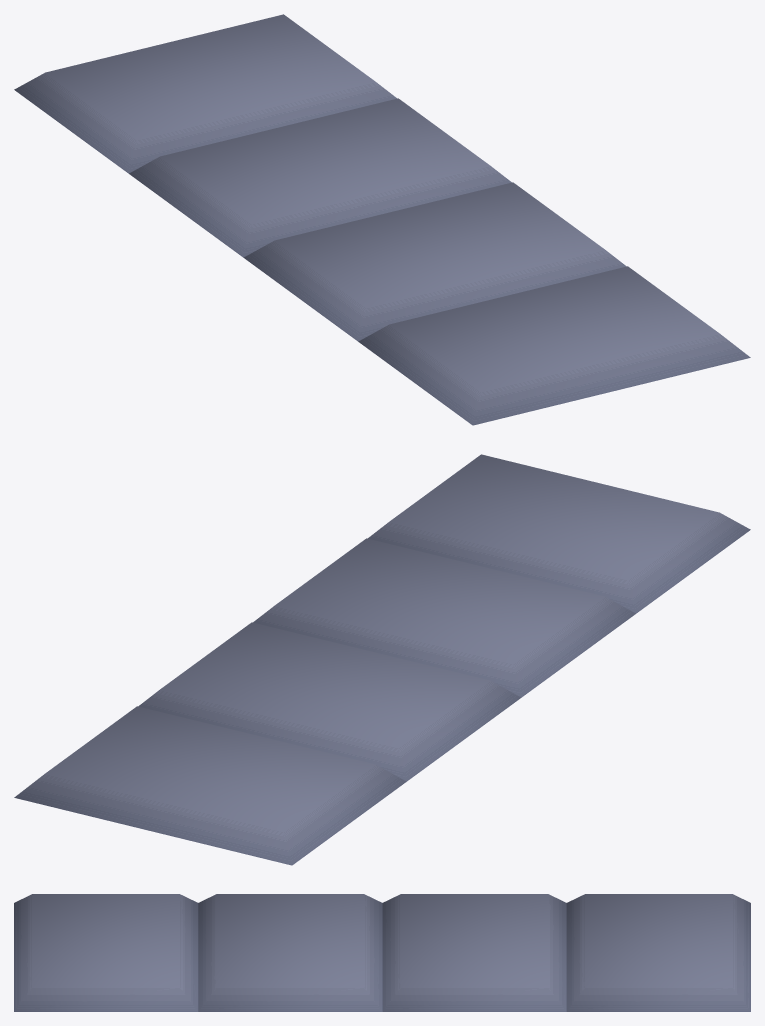
Rendered from path-stones-long.glb.
The picture shows the model from 3 angles, top to bottom: view 1: azimuth 30°, elevation 25°; view 2: azimuth 150°, elevation 25°; view 3: azimuth 270°, elevation 25°; orthographic projection. The views are drawn at different scales.
Visible parts, largest first — view 1: path-stones-long; view 2: path-stones-long; view 3: path-stones-long.
Part boxes in pixels (x1,y1,x2,y2): path-stones-long: (14, 14, 750, 425); path-stones-long: (14, 454, 750, 865); path-stones-long: (14, 894, 750, 1011).
Size of the model in its own units: 0.14 by 0.01 by 0.4.
1 material, 1 textured.
